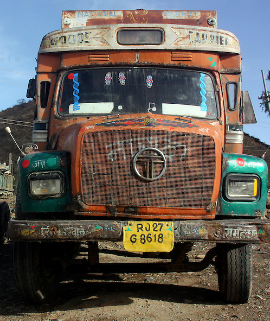truck: (1, 9, 265, 311)
